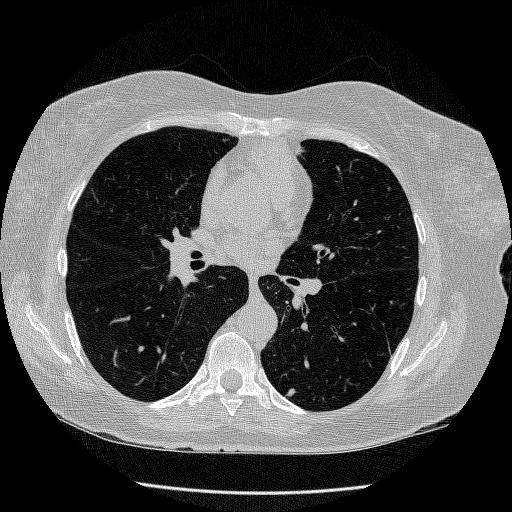nodule: (284, 386, 297, 399)
